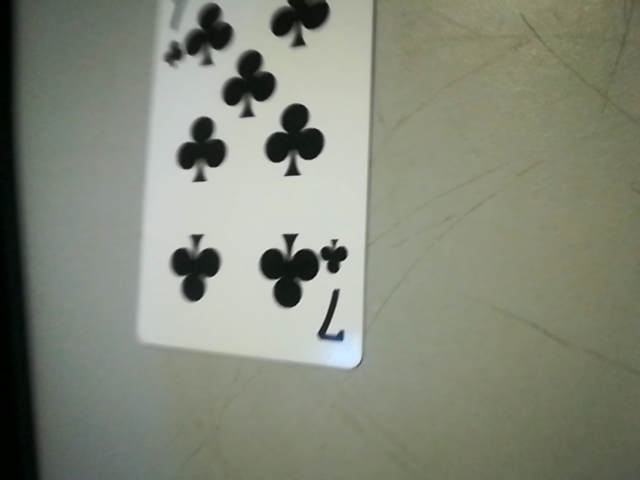mh 7: (313, 233, 361, 361)
